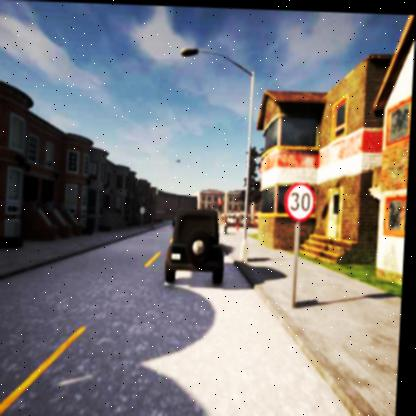vehicle: (166, 206, 228, 284)
